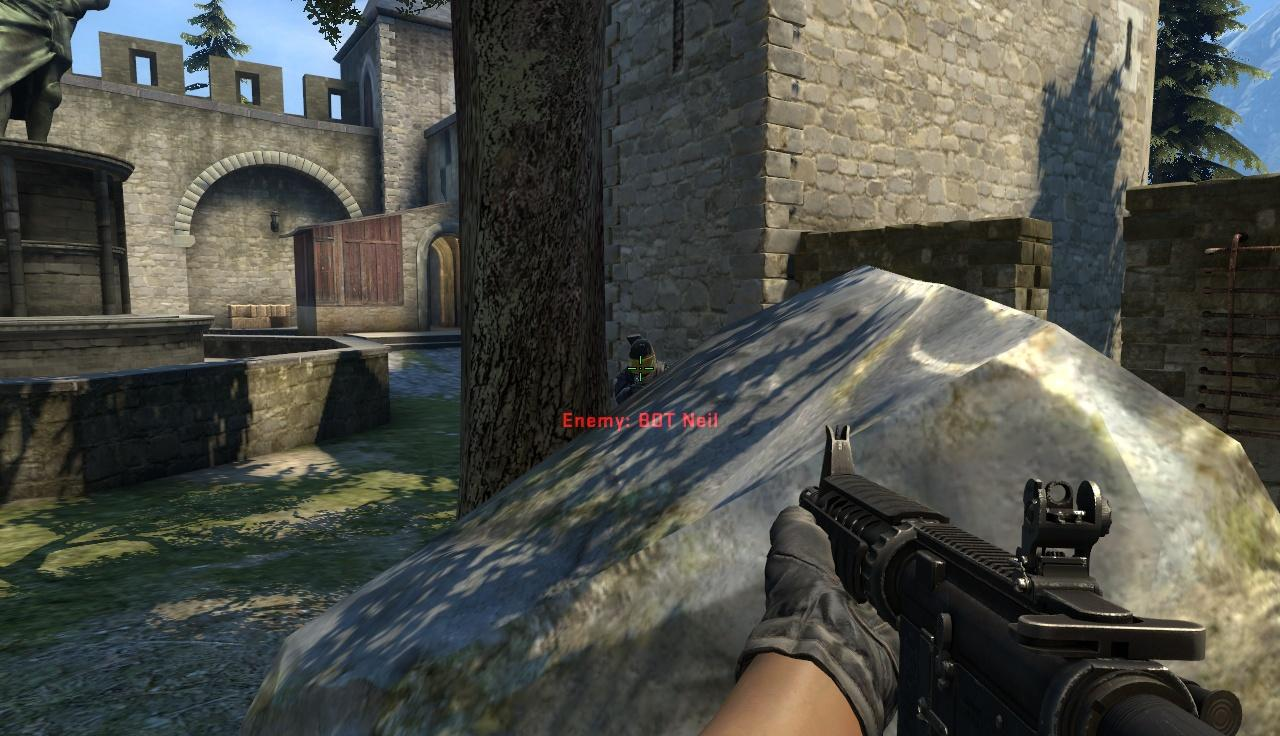ct: (618, 338, 663, 401)
cthead: (629, 339, 653, 373)
rifle: (792, 424, 1280, 736)
